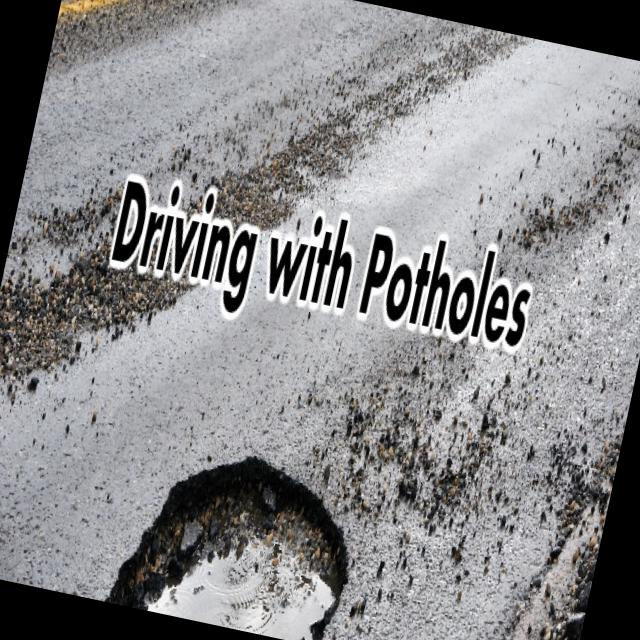Potholes: (98, 416, 387, 640)
